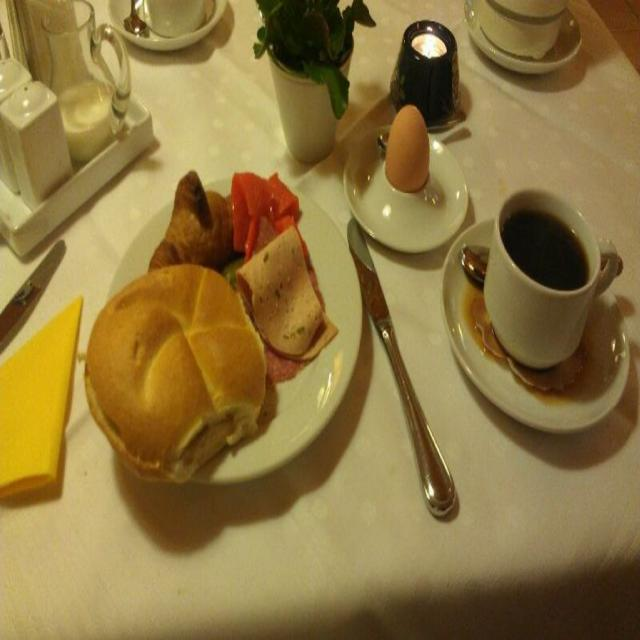Coffee: (502, 210, 588, 290)
Tea: (502, 211, 590, 288)
